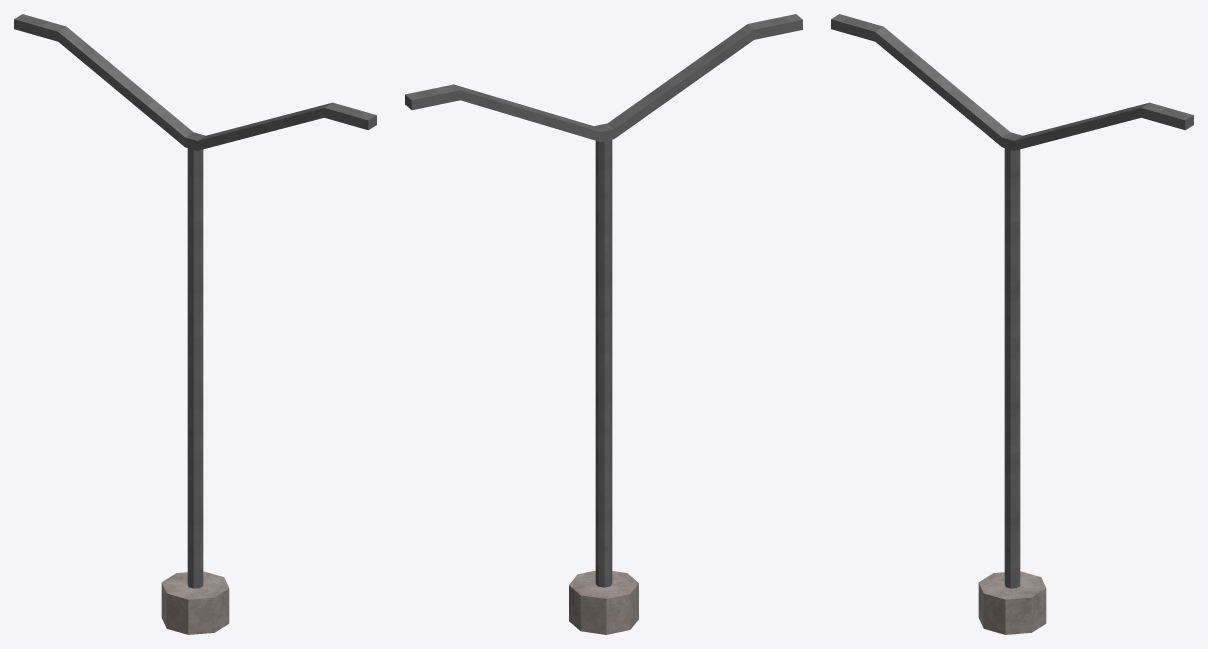
Rendered from streetlight-double.glb.
3 renders of one model, left to right at view 1: azimuth 90°, elevation 25°; view 2: azimuth 150°, elevation 25°; view 3: azimuth 270°, elevation 25°, orthographic.
Parts seen in each view (by area): view 1: streetlight-double; view 2: streetlight-double; view 3: streetlight-double.
Part boxes in pixels (x1=…): streetlight-double: x1=14, y1=14, x2=376, y2=634; streetlight-double: x1=405, y1=14, x2=802, y2=634; streetlight-double: x1=831, y1=14, x2=1193, y2=634.
Size of the model in its own units: 2.89 by 7 by 4.16.
3 materials, 3 textured.
